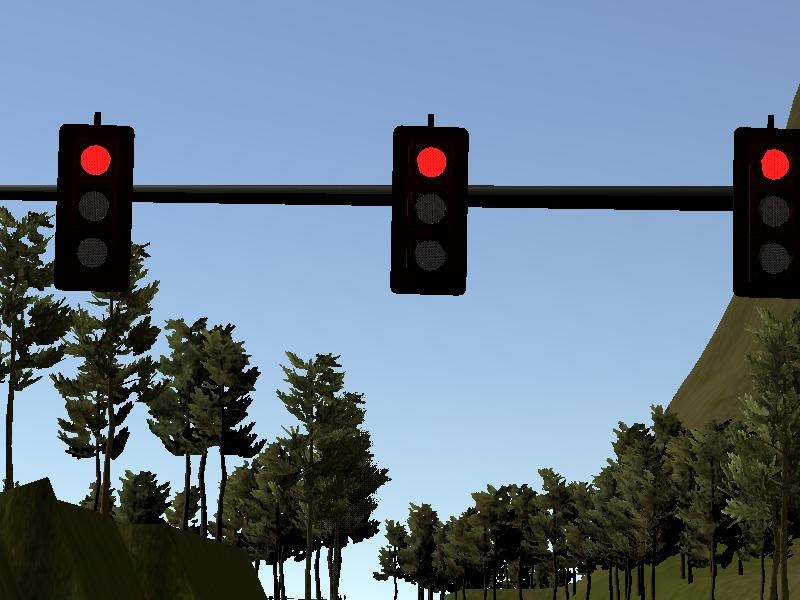RED: (56, 123, 135, 291), (389, 125, 468, 293), (732, 127, 800, 295)
